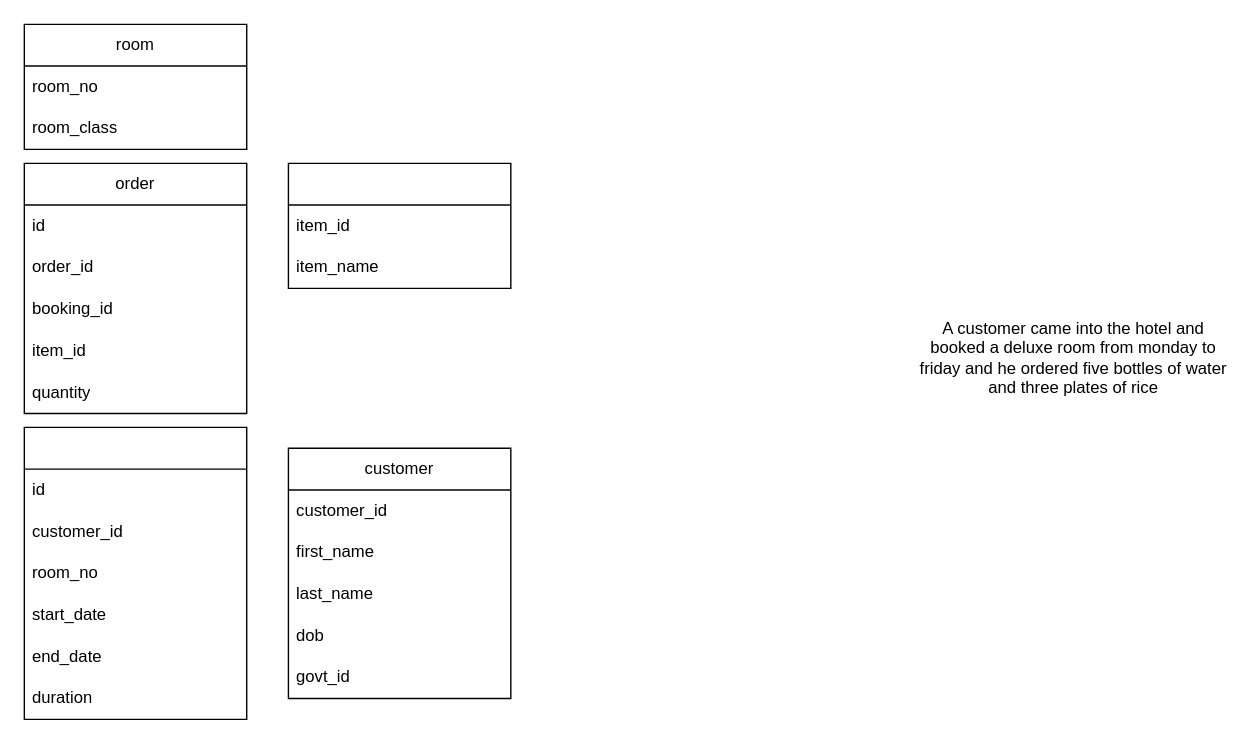
The diagram is 1258 pixels wide and 744 high, and some of its shapes have lost their labels. Here are the shapes that lost their labels. From the top down, the box of each, then its label:
(287, 162, 511, 288): items
(23, 426, 247, 719): bookings
